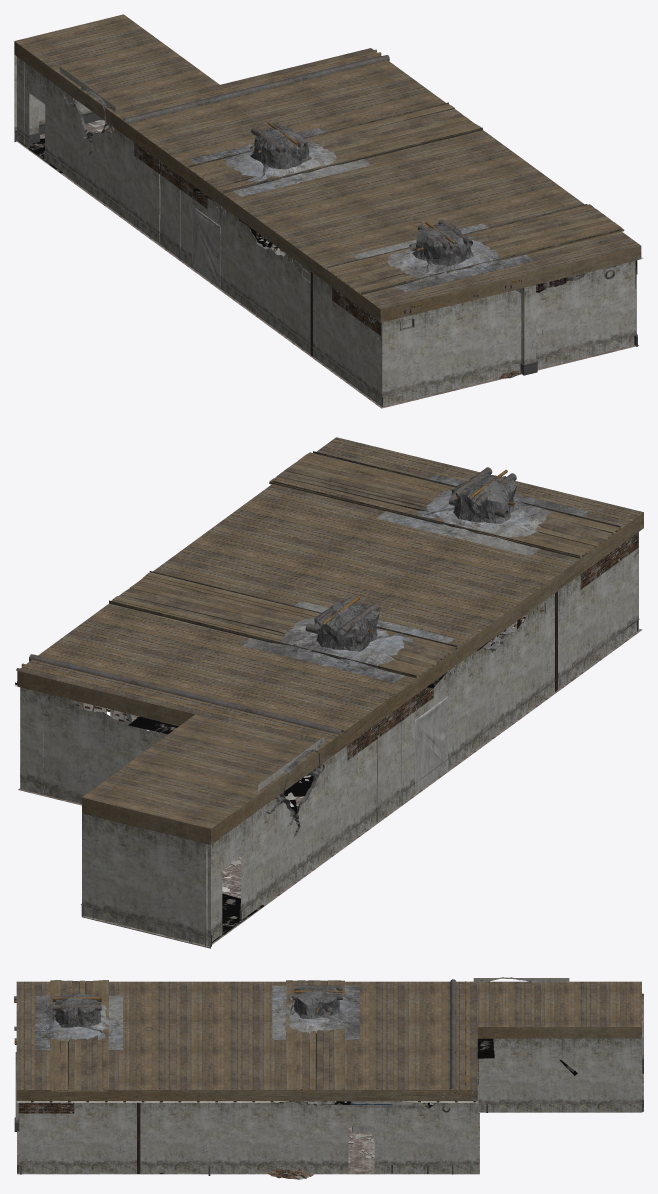
3 views of the same model, one above another, from view 1: azimuth 30°, elevation 25°; view 2: azimuth 150°, elevation 25°; view 3: azimuth 270°, elevation 25° (orthographic). The views are drawn at different scales.
Visible parts, largest first — view 1: LOD_1_Group_0_Sub_9__st2_policeWest3f4fCeiling01, LOD_1_Group_0_Sub_2__st2_police2fRightWall03, LOD_1_Group_0_Sub_10__st2_policeWest3f4fWall02_Mat__Env_Defa, LOD_1_Group_0_Sub_4__st2_police2fLeftOther01_Mat__Env_Defaul, LOD_1_Group_0_Sub_11__st2_police1LeftPipeline01, LOD_1_Group_0_Sub_1__st2_policeWest3f4fBrick01, LOD_1_Group_0_Sub_13__st2_policeWest3f4fSheet01, LOD_1_Group_0_Sub_6__st2_policeWest3f4fFloor02, LOD_1_Group_0_Sub_5__st2_police1RightWall06; view 2: LOD_1_Group_0_Sub_9__st2_policeWest3f4fCeiling01, LOD_1_Group_0_Sub_2__st2_police2fRightWall03, LOD_1_Group_0_Sub_10__st2_policeWest3f4fWall02_Mat__Env_Defa, LOD_1_Group_0_Sub_4__st2_police2fLeftOther01_Mat__Env_Defaul, LOD_1_Group_0_Sub_11__st2_police1LeftPipeline01, LOD_1_Group_0_Sub_1__st2_policeWest3f4fBrick01, LOD_1_Group_0_Sub_13__st2_policeWest3f4fSheet01, LOD_1_Group_0_Sub_6__st2_policeWest3f4fFloor02, LOD_1_Group_0_Sub_16__st2_Dirt01__Env_Decal, LOD_1_Group_0_Sub_5__st2_police1RightWall06; view 3: LOD_1_Group_0_Sub_9__st2_policeWest3f4fCeiling01, LOD_1_Group_0_Sub_2__st2_police2fRightWall03, LOD_1_Group_0_Sub_10__st2_policeWest3f4fWall02_Mat__Env_Defa, LOD_1_Group_0_Sub_4__st2_police2fLeftOther01_Mat__Env_Defaul, LOD_1_Group_0_Sub_11__st2_police1LeftPipeline01, LOD_1_Group_0_Sub_6__st2_policeWest3f4fFloor02, LOD_1_Group_0_Sub_1__st2_policeWest3f4fBrick01, LOD_1_Group_0_Sub_7__st2_police2fLeftCeiling04, LOD_1_Group_0_Sub_16__st2_Dirt01__Env_Decal, LOD_1_Group_0_Sub_8__st2_police2fRightLift02, LOD_1_Group_0_Sub_13__st2_policeWest3f4fSheet01, LOD_1_Group_0_Sub_5__st2_police1RightWall06.
Part boxes in pixels (<box>): LOD_1_Group_0_Sub_9__st2_policeWest3f4fCeiling01: <box>14,14,641,322</box>; LOD_1_Group_0_Sub_2__st2_police2fRightWall03: <box>14,55,636,406</box>; LOD_1_Group_0_Sub_10__st2_policeWest3f4fWall02_Mat__Env_Defa: <box>190,127,533,292</box>; LOD_1_Group_0_Sub_4__st2_police2fLeftOther01_Mat__Env_Defaul: <box>63,87,473,274</box>; LOD_1_Group_0_Sub_11__st2_police1LeftPipeline01: <box>104,49,614,340</box>; LOD_1_Group_0_Sub_1__st2_policeWest3f4fBrick01: <box>88,120,637,381</box>; LOD_1_Group_0_Sub_13__st2_policeWest3f4fSheet01: <box>58,106,585,288</box>; LOD_1_Group_0_Sub_6__st2_policeWest3f4fFloor02: <box>16,119,638,408</box>; LOD_1_Group_0_Sub_5__st2_police1RightWall06: <box>14,112,637,406</box>; LOD_1_Group_0_Sub_9__st2_policeWest3f4fCeiling01: <box>17,437,643,844</box>; LOD_1_Group_0_Sub_2__st2_police2fRightWall03: <box>20,532,638,948</box>; LOD_1_Group_0_Sub_10__st2_policeWest3f4fWall02_Mat__Env_Defa: <box>240,474,590,682</box>; LOD_1_Group_0_Sub_4__st2_police2fLeftOther01_Mat__Env_Defaul: <box>263,473,540,837</box>; LOD_1_Group_0_Sub_11__st2_police1LeftPipeline01: <box>16,467,636,775</box>; LOD_1_Group_0_Sub_1__st2_policeWest3f4fBrick01: <box>73,532,638,922</box>; LOD_1_Group_0_Sub_13__st2_policeWest3f4fSheet01: <box>112,696,448,835</box>; LOD_1_Group_0_Sub_6__st2_policeWest3f4fFloor02: <box>18,618,642,947</box>; LOD_1_Group_0_Sub_16__st2_Dirt01__Env_Decal: <box>41,640,490,942</box>; LOD_1_Group_0_Sub_5__st2_police1RightWall06: <box>43,619,639,946</box>; LOD_1_Group_0_Sub_9__st2_policeWest3f4fCeiling01: <box>16,980,641,1101</box>; LOD_1_Group_0_Sub_2__st2_police2fRightWall03: <box>15,978,643,1173</box>; LOD_1_Group_0_Sub_10__st2_policeWest3f4fWall02_Mat__Env_Defa: <box>35,985,359,1104</box>; LOD_1_Group_0_Sub_4__st2_police2fLeftOther01_Mat__Env_Defaul: <box>54,977,531,1034</box>; LOD_1_Group_0_Sub_11__st2_police1LeftPipeline01: <box>14,979,474,1112</box>; LOD_1_Group_0_Sub_6__st2_policeWest3f4fFloor02: <box>17,1073,643,1174</box>; LOD_1_Group_0_Sub_1__st2_policeWest3f4fBrick01: <box>18,1050,478,1179</box>; LOD_1_Group_0_Sub_7__st2_police2fLeftCeiling04: <box>16,1101,477,1162</box>; LOD_1_Group_0_Sub_16__st2_Dirt01__Env_Decal: <box>159,1038,577,1102</box>; LOD_1_Group_0_Sub_8__st2_police2fRightLift02: <box>31,994,642,1173</box>; LOD_1_Group_0_Sub_13__st2_policeWest3f4fSheet01: <box>274,1049,538,1132</box>; LOD_1_Group_0_Sub_5__st2_police1RightWall06: <box>14,1059,643,1175</box>.
Bounding box in the file's own units: 11.09 × 5.05 × 25.65.
